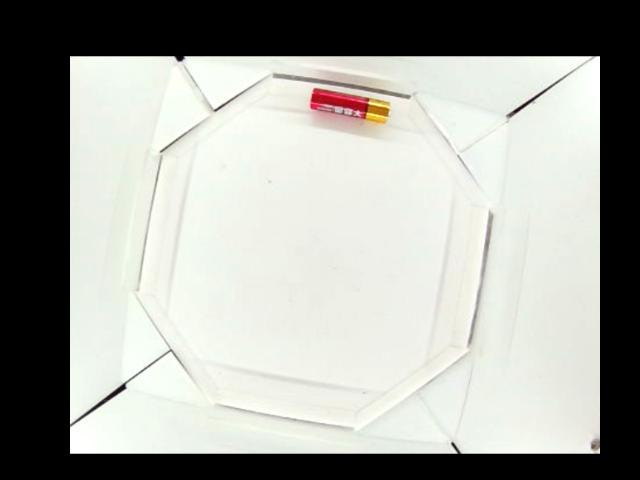Battery: (310, 87, 391, 118)
